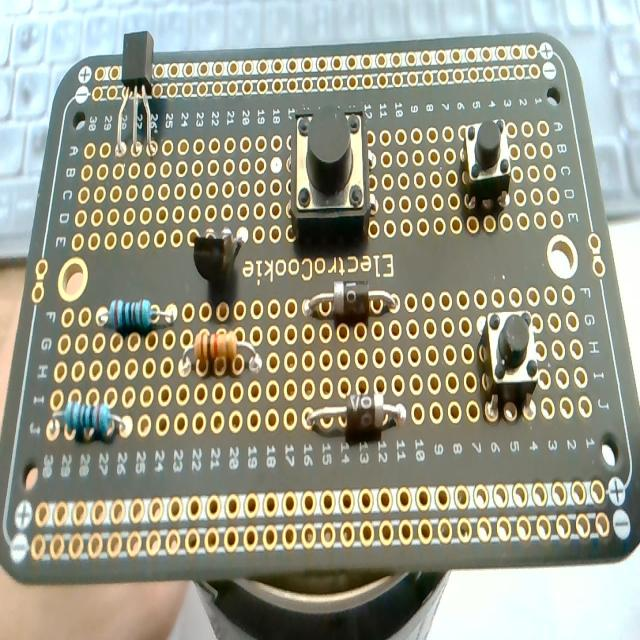diode: (307, 392, 408, 437), (306, 280, 398, 321)
resistor: (179, 331, 265, 378), (51, 401, 128, 445), (98, 298, 176, 334)
switch: (287, 101, 373, 243), (478, 306, 543, 422), (463, 117, 511, 210)
transistor: (118, 32, 158, 160), (191, 226, 246, 284)
